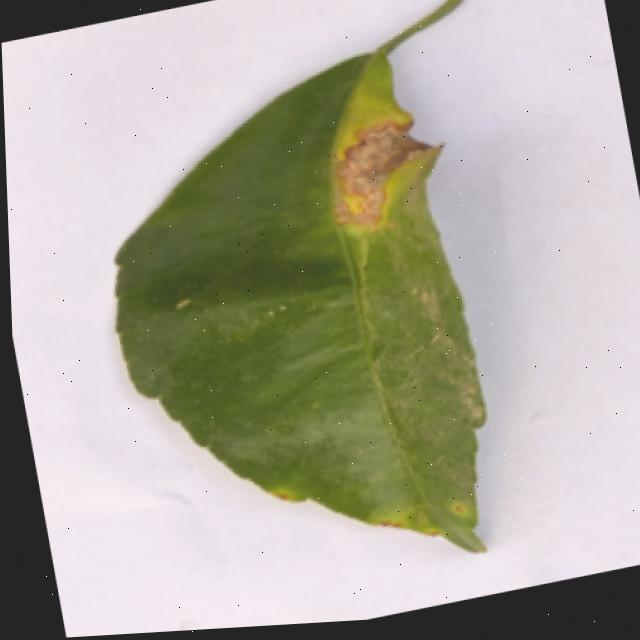canker: (114, 0, 482, 547), (309, 80, 450, 258)
